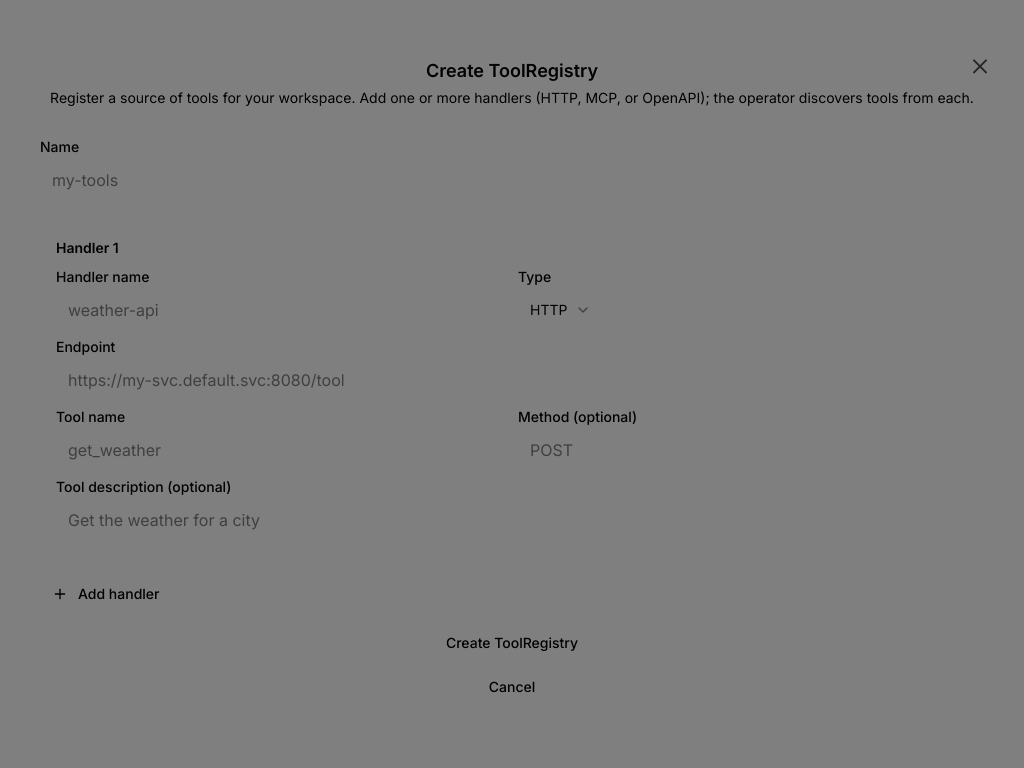
Test case: inline validation via ToolRegistryDialog › shows an inline error for an invalid resource name and blocks submit
The image size is (1024, 768).
In the field labelled "Name": (512, 180) [40,162,984,198], type "Bad Name"
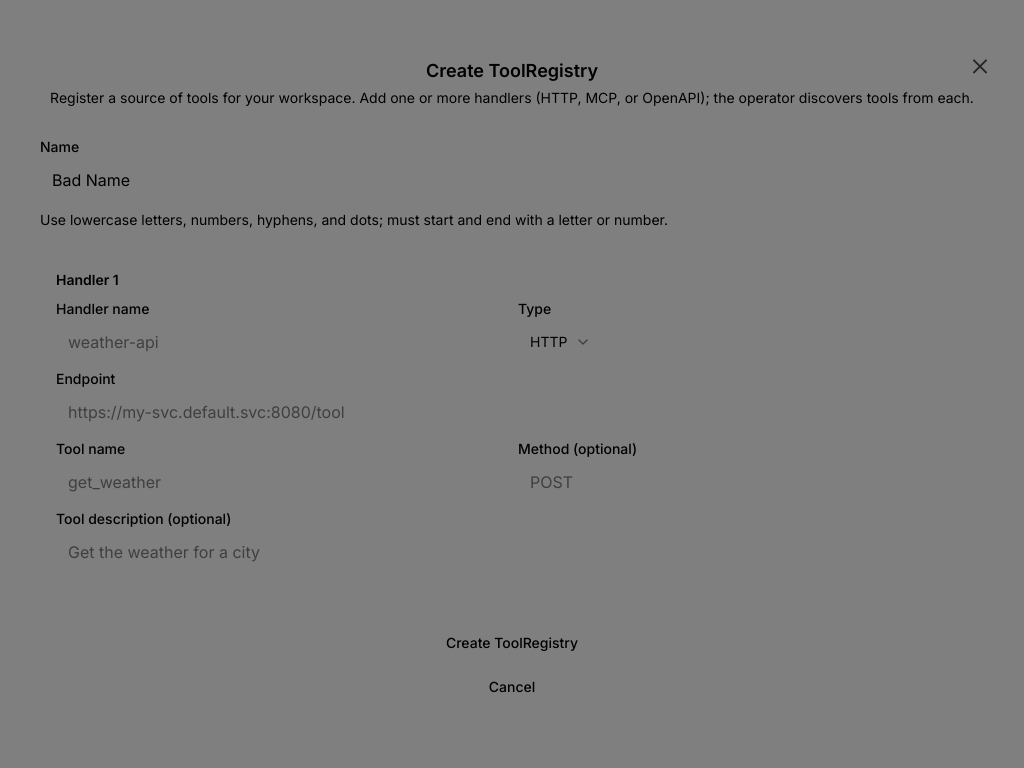
Expected: the button "Create ToolRegistry" is disabled, [40,626,984,662]
Result: the text "lowercase letters, numbers, hyphens" is shown at [40,211,668,228]
